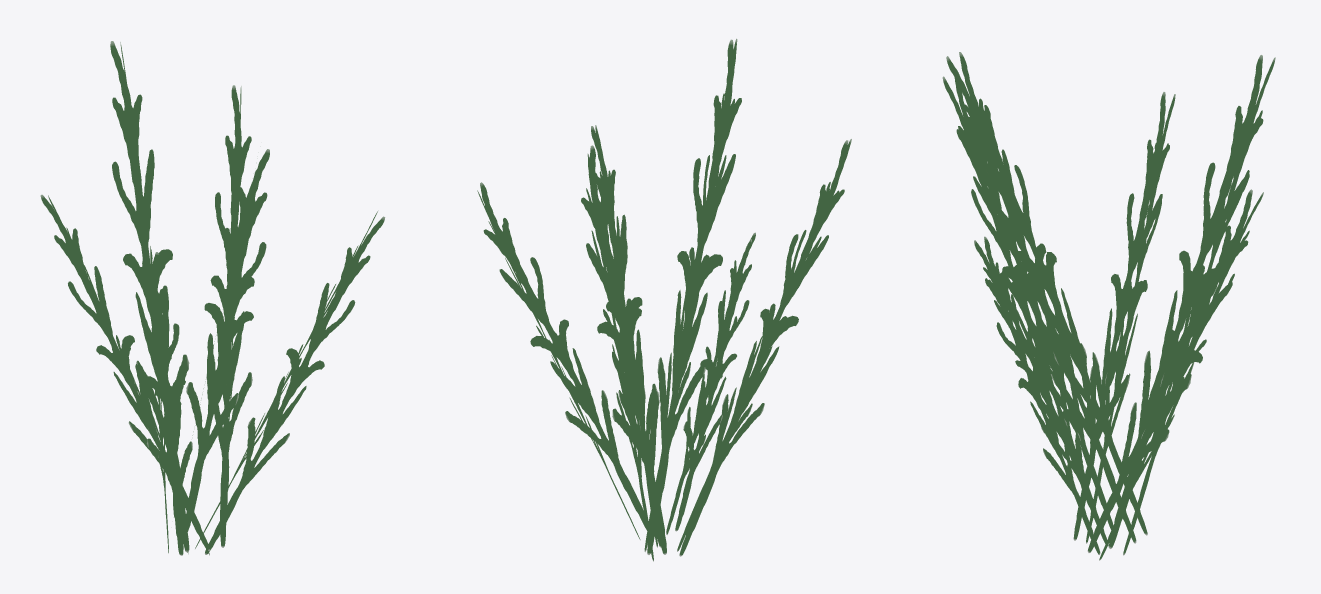
The model's file is Rosemary.fbx.
The picture shows the model from 3 angles, left to right: view 1: azimuth 30°, elevation 25°; view 2: azimuth 150°, elevation 25°; view 3: azimuth 270°, elevation 25°; orthographic projection. The views are drawn at different scales.
Parts seen in each view (by area): view 1: polySurface387; view 2: polySurface387; view 3: polySurface387.
Boxes of the visible parts, <box> form: polySurface387: <box>40,41,385,555</box>; polySurface387: <box>477,38,851,561</box>; polySurface387: <box>942,52,1275,560</box>.
Size of the model in its own units: 0.4097 by 0.6792 by 0.4406.
